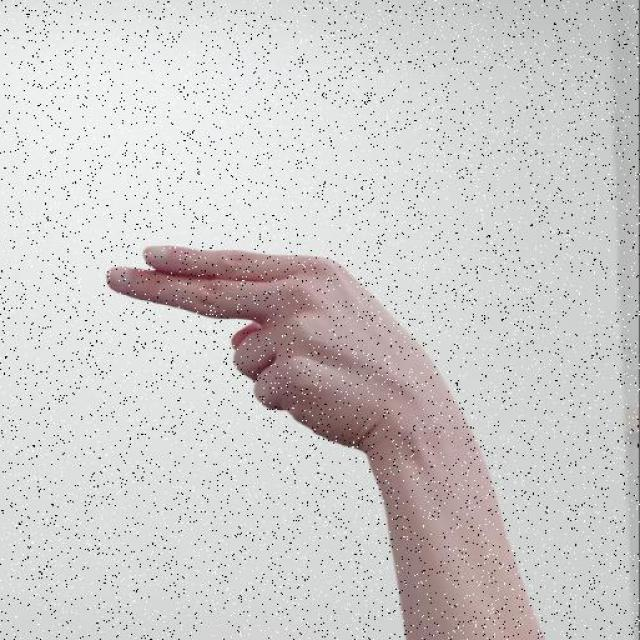H: (106, 244, 463, 458)
